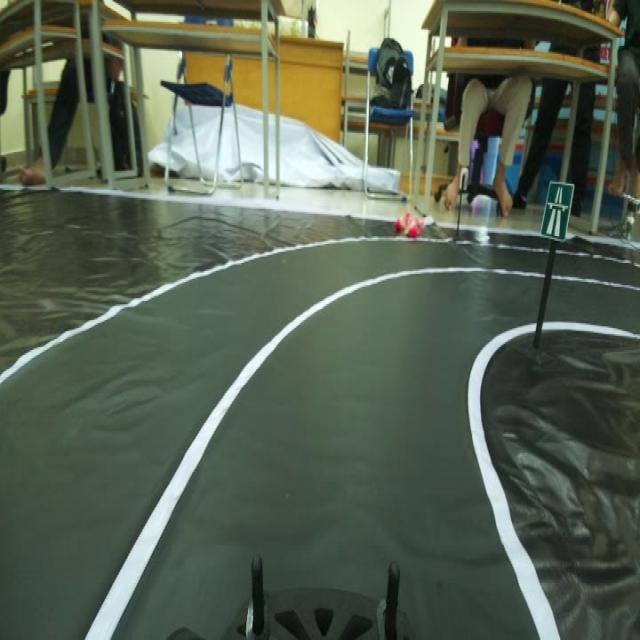highway_entry: (542, 168, 575, 245)
